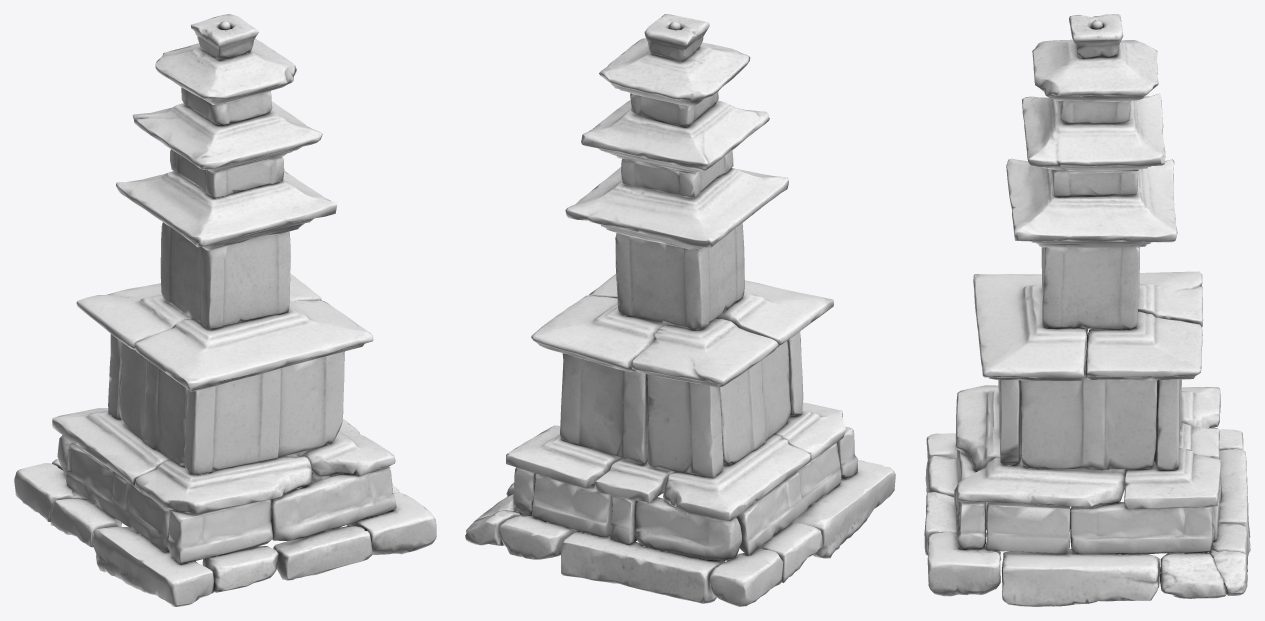
Rendered from SM_Three-story_Stone_Pagoda_1.FBX.
3 views of the same model, side by side, from view 1: azimuth 30°, elevation 25°; view 2: azimuth 150°, elevation 25°; view 3: azimuth 270°, elevation 25° (orthographic). The views are drawn at different scales.
Visible parts, largest first — view 1: SM_Three_story_Stone_Pagoda_1; view 2: SM_Three_story_Stone_Pagoda_1; view 3: SM_Three_story_Stone_Pagoda_1.
Part boxes in pixels (box(x1,y1,x2,y2)): SM_Three_story_Stone_Pagoda_1: box(14, 14, 436, 606); SM_Three_story_Stone_Pagoda_1: box(465, 14, 895, 606); SM_Three_story_Stone_Pagoda_1: box(924, 14, 1250, 606).
Size of the model in its own units: 263 by 452 by 255.
